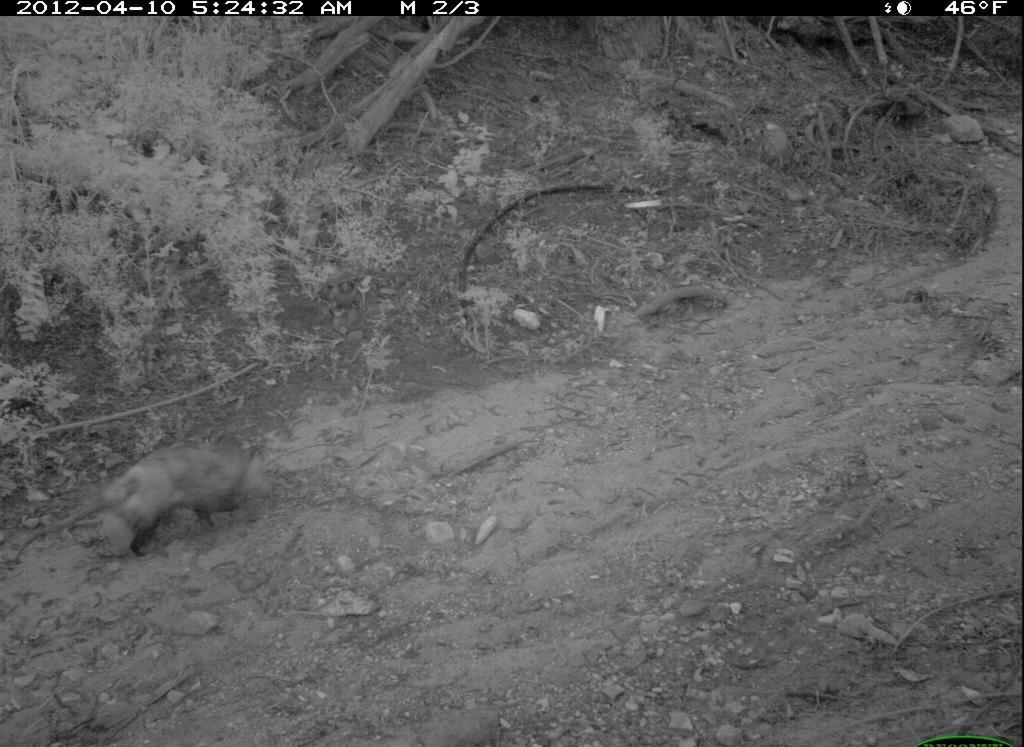opossum: (16, 427, 313, 575)
